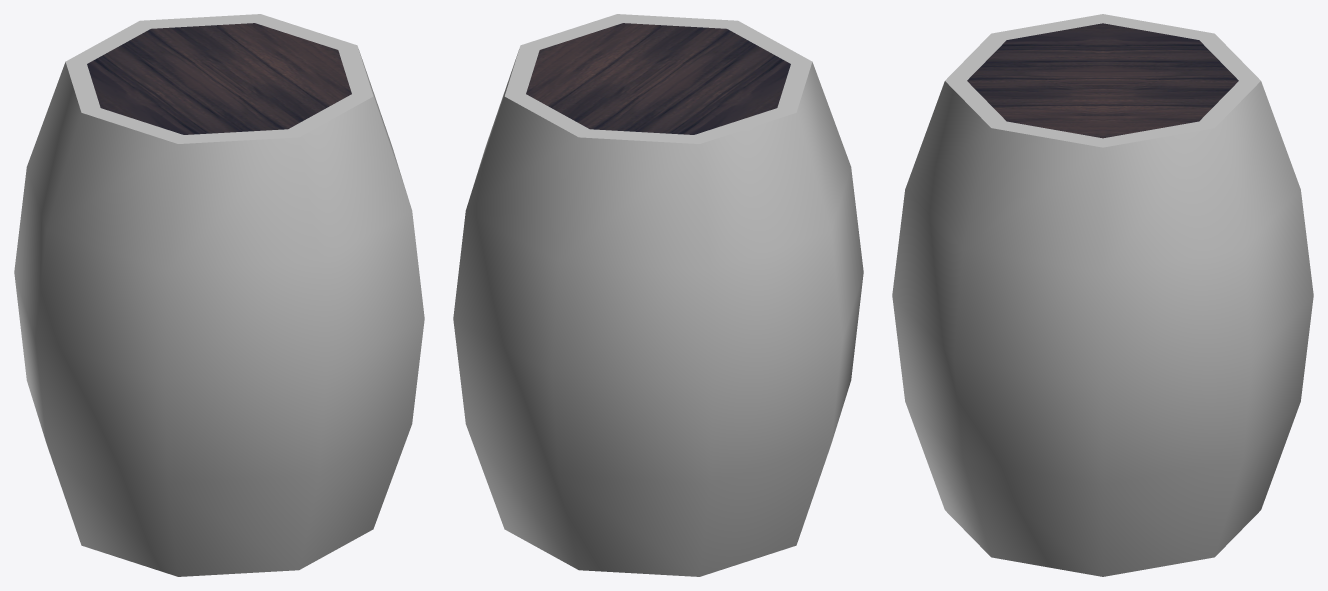
File: Barrel_A.fbx
3 renders of one model, left to right at view 1: azimuth 30°, elevation 25°; view 2: azimuth 150°, elevation 25°; view 3: azimuth 270°, elevation 25°, orthographic.
Parts seen in each view (by area): view 1: Barrel_A; view 2: Barrel_A; view 3: Barrel_A.
Part boxes in pixels (x1,y1,x2,y2): Barrel_A: (14, 14, 424, 576); Barrel_A: (453, 14, 863, 576); Barrel_A: (892, 14, 1313, 576).
Bounding box in the file's own units: 0.228 × 0.2562 × 0.228.
